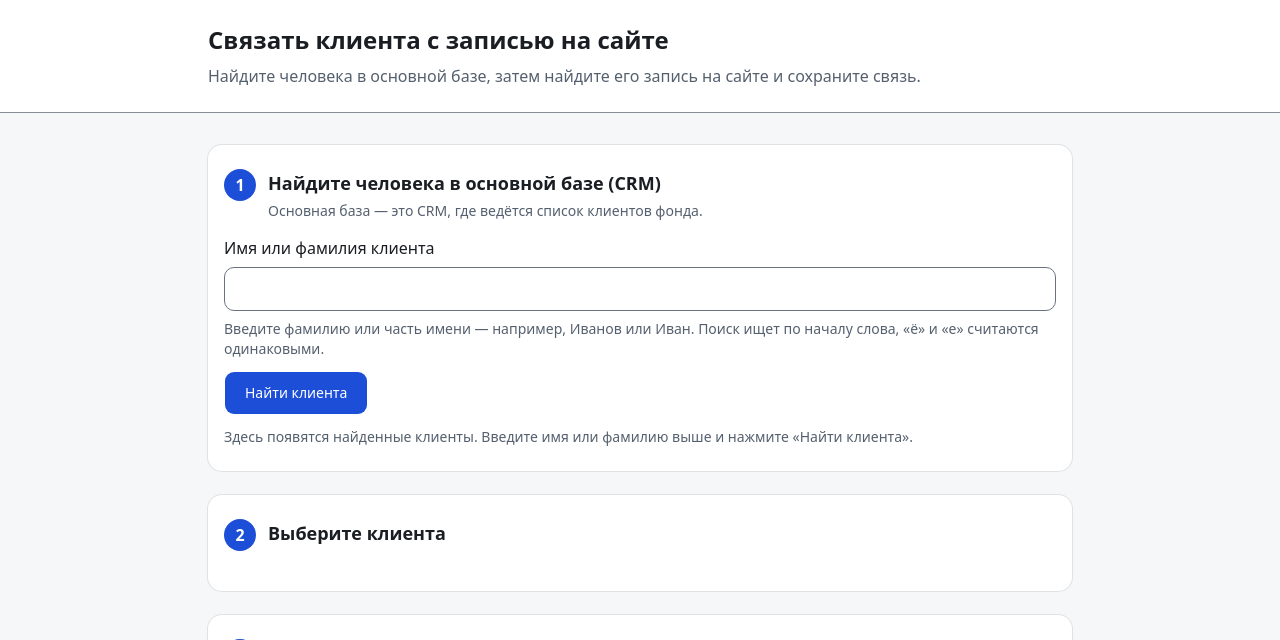
Test case: поиск клиента в основной базе › объясняет, что ничего не нашлось
This screenshot has width=1280, height=640.
Step 1. Type "Иванов" into the field labelled "Имя или фамилия клиента" → (640, 289), box [224, 267, 1056, 311]
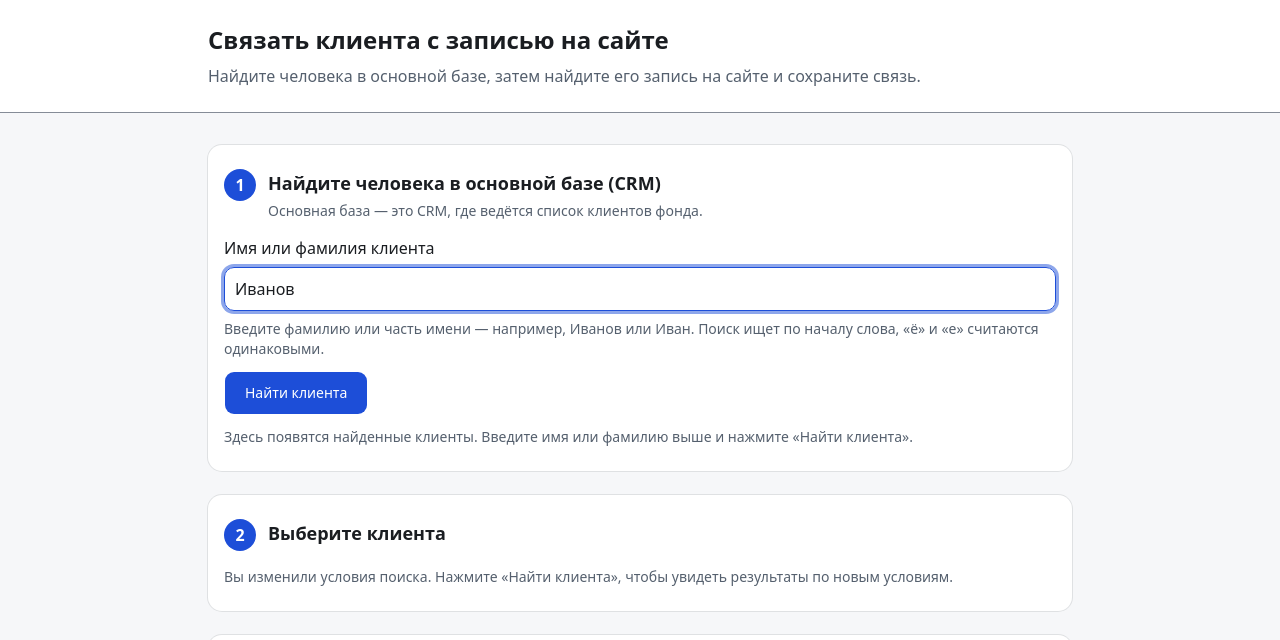
Step 2. Click the button "Найти клиента" → (296, 393), box [224, 371, 368, 415]
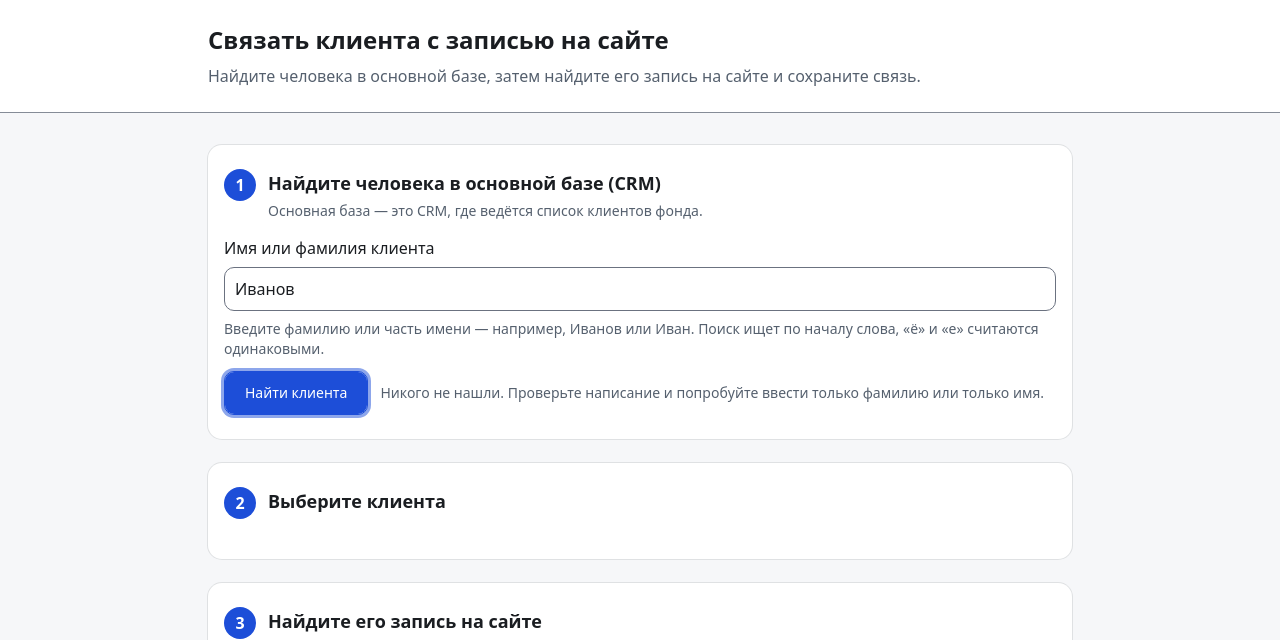
Result: the text "Никого не нашли. Проверьте написание и попробуйте ввести только фамилию или только имя." is shown at [380, 383, 1044, 402]
